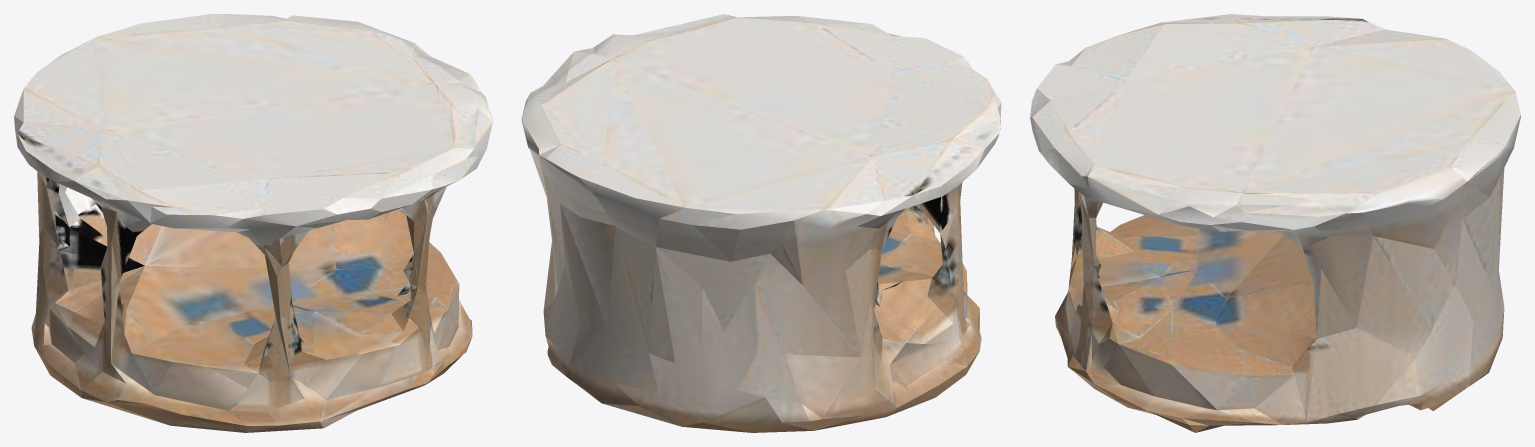
Rendered from mall_kiosk_low.glb.
3 views of the same model, side by side, from view 1: azimuth 30°, elevation 25°; view 2: azimuth 150°, elevation 25°; view 3: azimuth 270°, elevation 25° (orthographic). The views are drawn at different scales.
Parts seen in each view (by area): view 1: output_unwrapped; view 2: output_unwrapped; view 3: output_unwrapped.
Part boxes in pixels (x1,y1,x2,y2): output_unwrapped: [14, 14, 492, 432]; output_unwrapped: [521, 14, 1001, 432]; output_unwrapped: [1030, 14, 1520, 432].
Bounding box in the file's own units: 2.97 × 1.6 × 3.
Materials: 1 (1 with a texture image).
